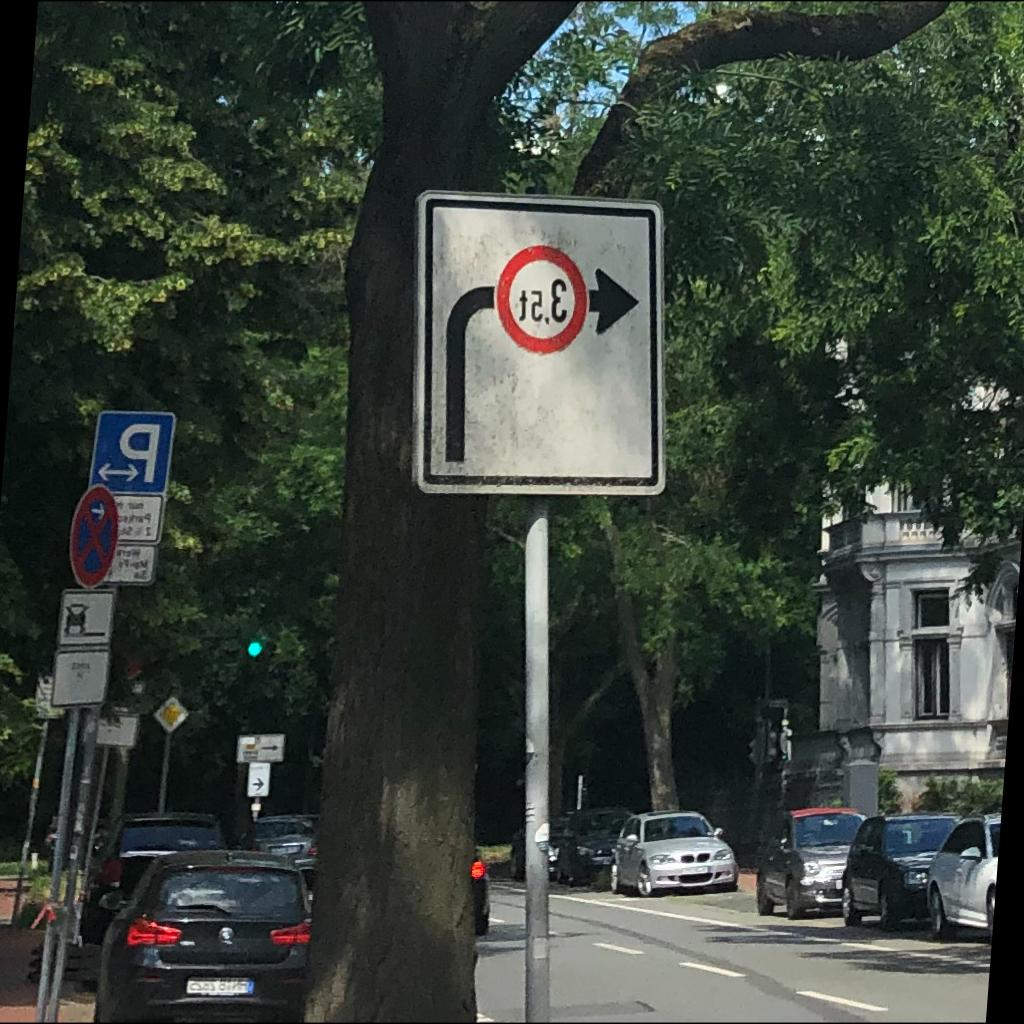tree: (296, 1, 956, 1024), (607, 496, 695, 813)
